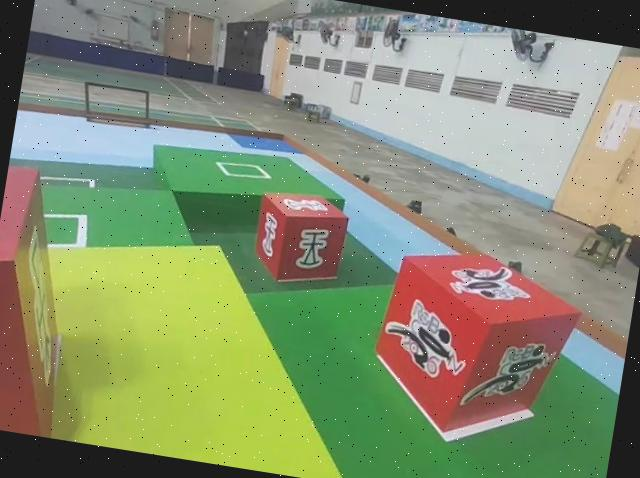R1: (361, 234, 589, 454)
R2 Real: (243, 183, 354, 291)
